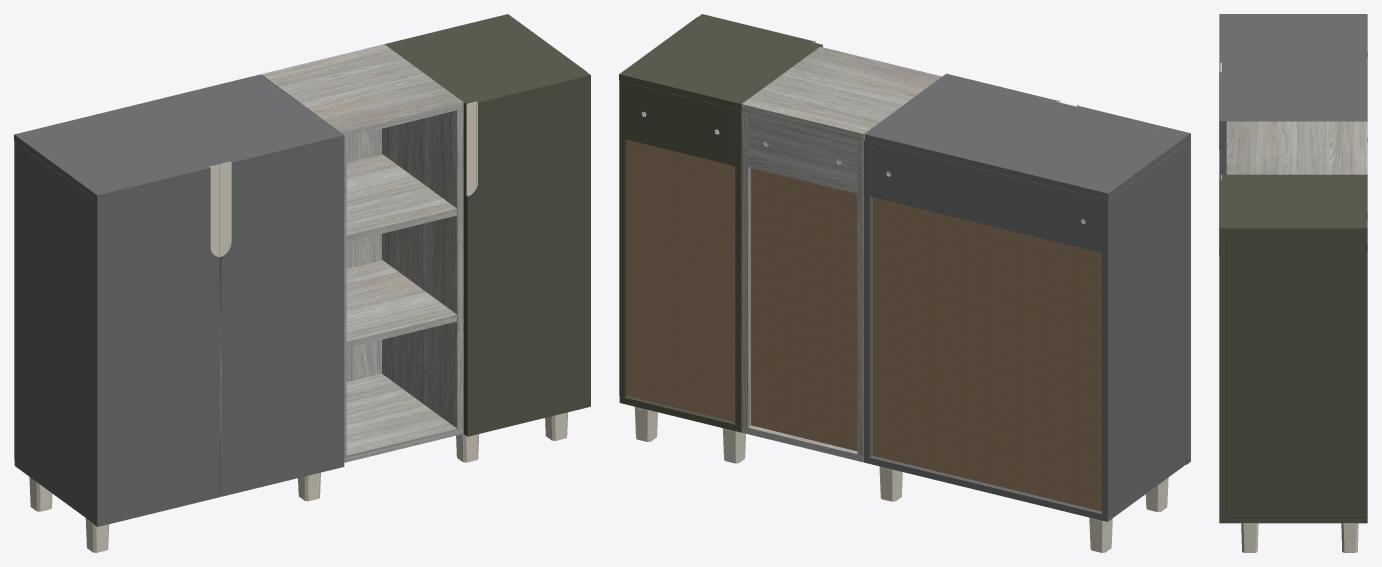
3 renders of one model, left to right at view 1: azimuth 30°, elevation 25°; view 2: azimuth 150°, elevation 25°; view 3: azimuth 270°, elevation 25°, orthographic. The views are drawn at different scales.
Visible parts, largest first — view 1: group_0.467, Cube.003, Cube.005, group_0.115; view 2: group_0.467, group_0.369, Cube.005, group_0.090, Cube.003, group_0.115; view 3: Cube.003, group_0.467, Cube.005, group_0.115.
Part boxes in pixels (<box>): group_0.467: <box>14,74,344,526</box>; Cube.003: <box>384,14,590,436</box>; Cube.005: <box>261,44,463,462</box>; group_0.115: <box>29,101,567,552</box>; group_0.467: <box>864,73,1190,521</box>; group_0.369: <box>873,197,1101,511</box>; Cube.005: <box>741,46,942,462</box>; group_0.090: <box>628,140,735,421</box>; Cube.003: <box>619,14,822,432</box>; group_0.115: <box>634,40,1168,552</box>; Cube.003: <box>1219,174,1367,523</box>; group_0.467: <box>1219,14,1367,178</box>; Cube.005: <box>1226,121,1367,174</box>; group_0.115: <box>1219,63,1358,552</box>.
Size of the model in its own units: 1.4 by 1 by 0.4114.
Materials: 6 (2 with a texture image).
